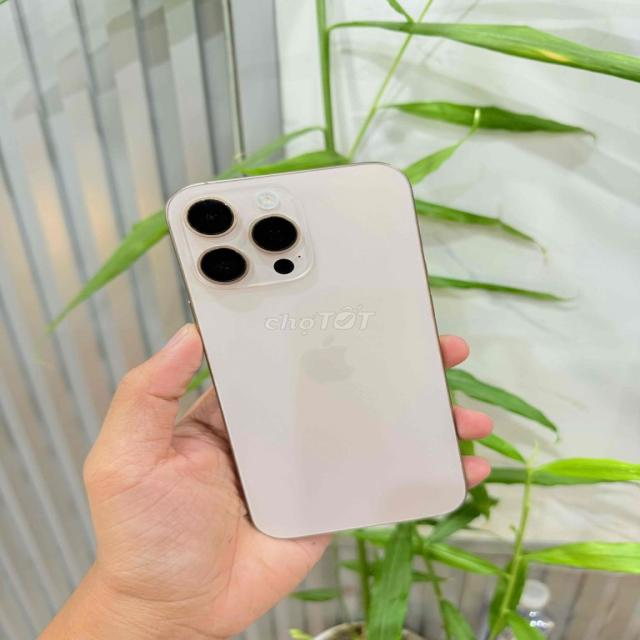gen_16: (167, 163, 465, 537)
